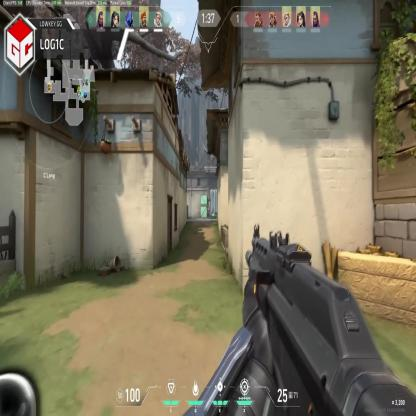enemy: (206, 204, 210, 219)
enemy_head: (208, 205, 209, 209)
